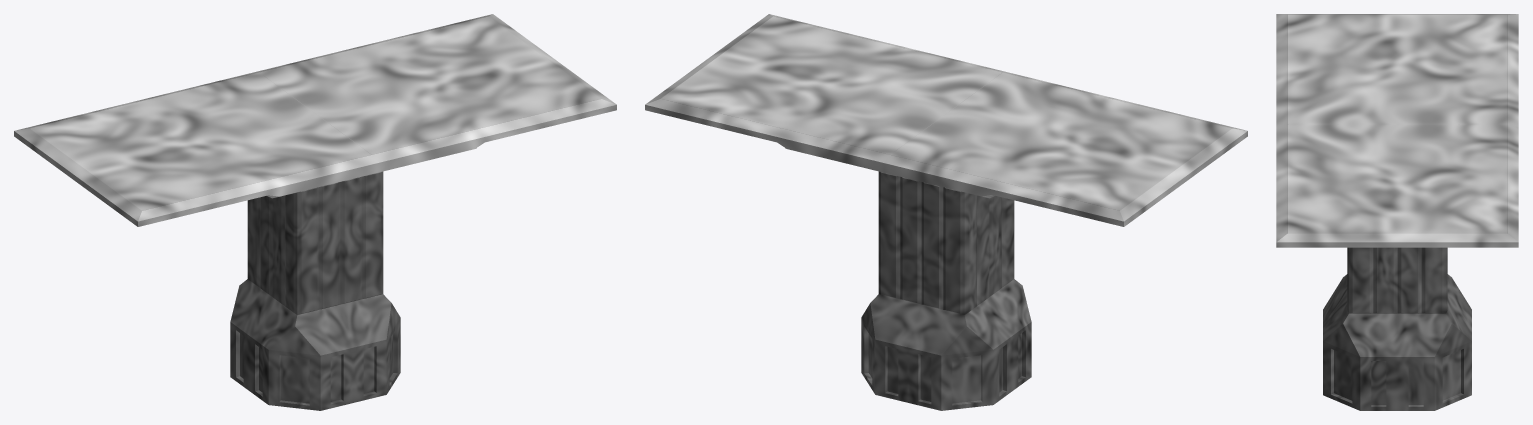
Rendered from table_v2.glb.
3 views of the same model, side by side, from view 1: azimuth 30°, elevation 25°; view 2: azimuth 150°, elevation 25°; view 3: azimuth 270°, elevation 25° (orthographic). The views are drawn at different scales.
Visible parts, largest first — view 1: table; view 2: table; view 3: table.
Boxes of the visible parts, x1=… form: table: x1=14, y1=14, x2=616, y2=410; table: x1=645, y1=14, x2=1247, y2=410; table: x1=1276, y1=14, x2=1518, y2=410.
Size of the model in its own units: 1.81 by 0.945 by 0.8125.
Materials: 1 (1 with a texture image).
